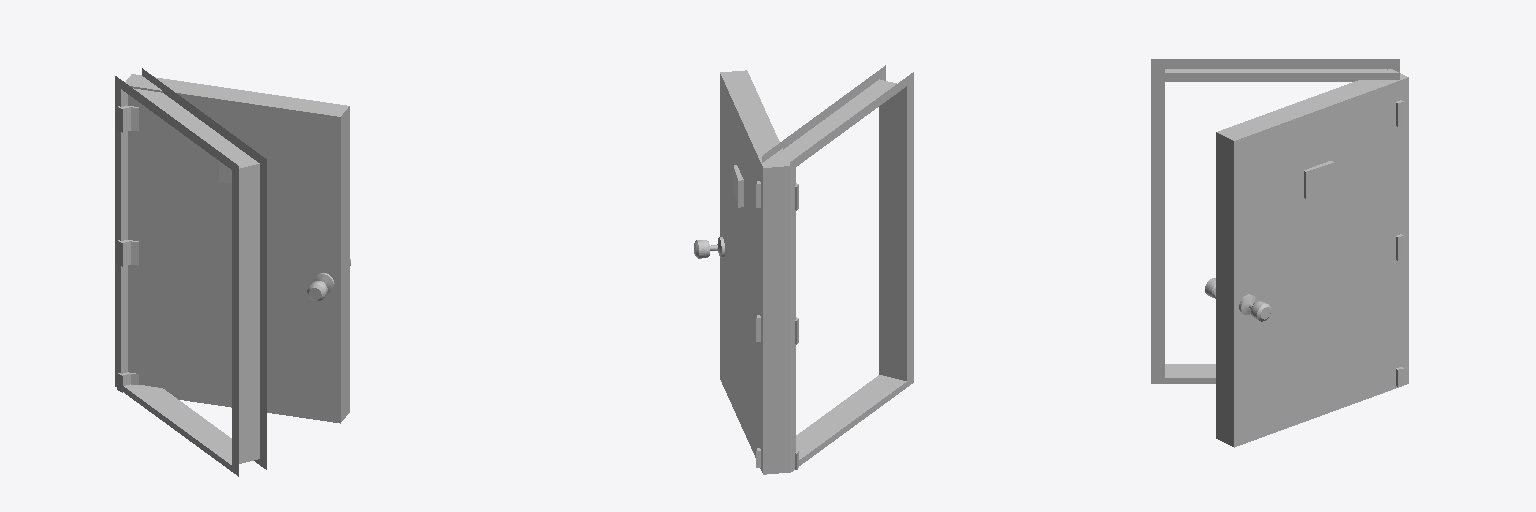
Rendered from Door_6_Open13.obj.
The picture shows the model from 3 angles: view 1: azimuth 30°, elevation 25°; view 2: azimuth 150°, elevation 25°; view 3: azimuth 270°, elevation 25°; orthographic projection.
Parts seen in each view (by area): view 1: Door.002, Frame_Door.005; view 2: Door.002, Frame_Door.005; view 3: Door.002, Frame_Door.005.
Boxes of the visible parts, box(x1,y1,x2,y2) form: Door.002: box(125, 74, 350, 423); Frame_Door.005: box(115, 68, 266, 476); Door.002: box(694, 70, 789, 474); Frame_Door.005: box(762, 65, 913, 472); Door.002: box(1205, 69, 1408, 447); Frame_Door.005: box(1151, 59, 1399, 383).
Size of the model in its own units: 0.6553 by 1.17 by 0.8719.